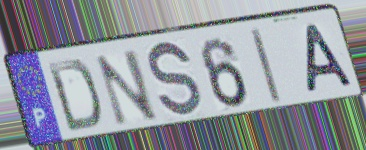6: (198, 35, 249, 109)
A: (305, 21, 358, 96)
D: (44, 57, 105, 134)
I: (247, 26, 285, 107)
N: (92, 47, 161, 130)
S: (147, 38, 204, 123)
